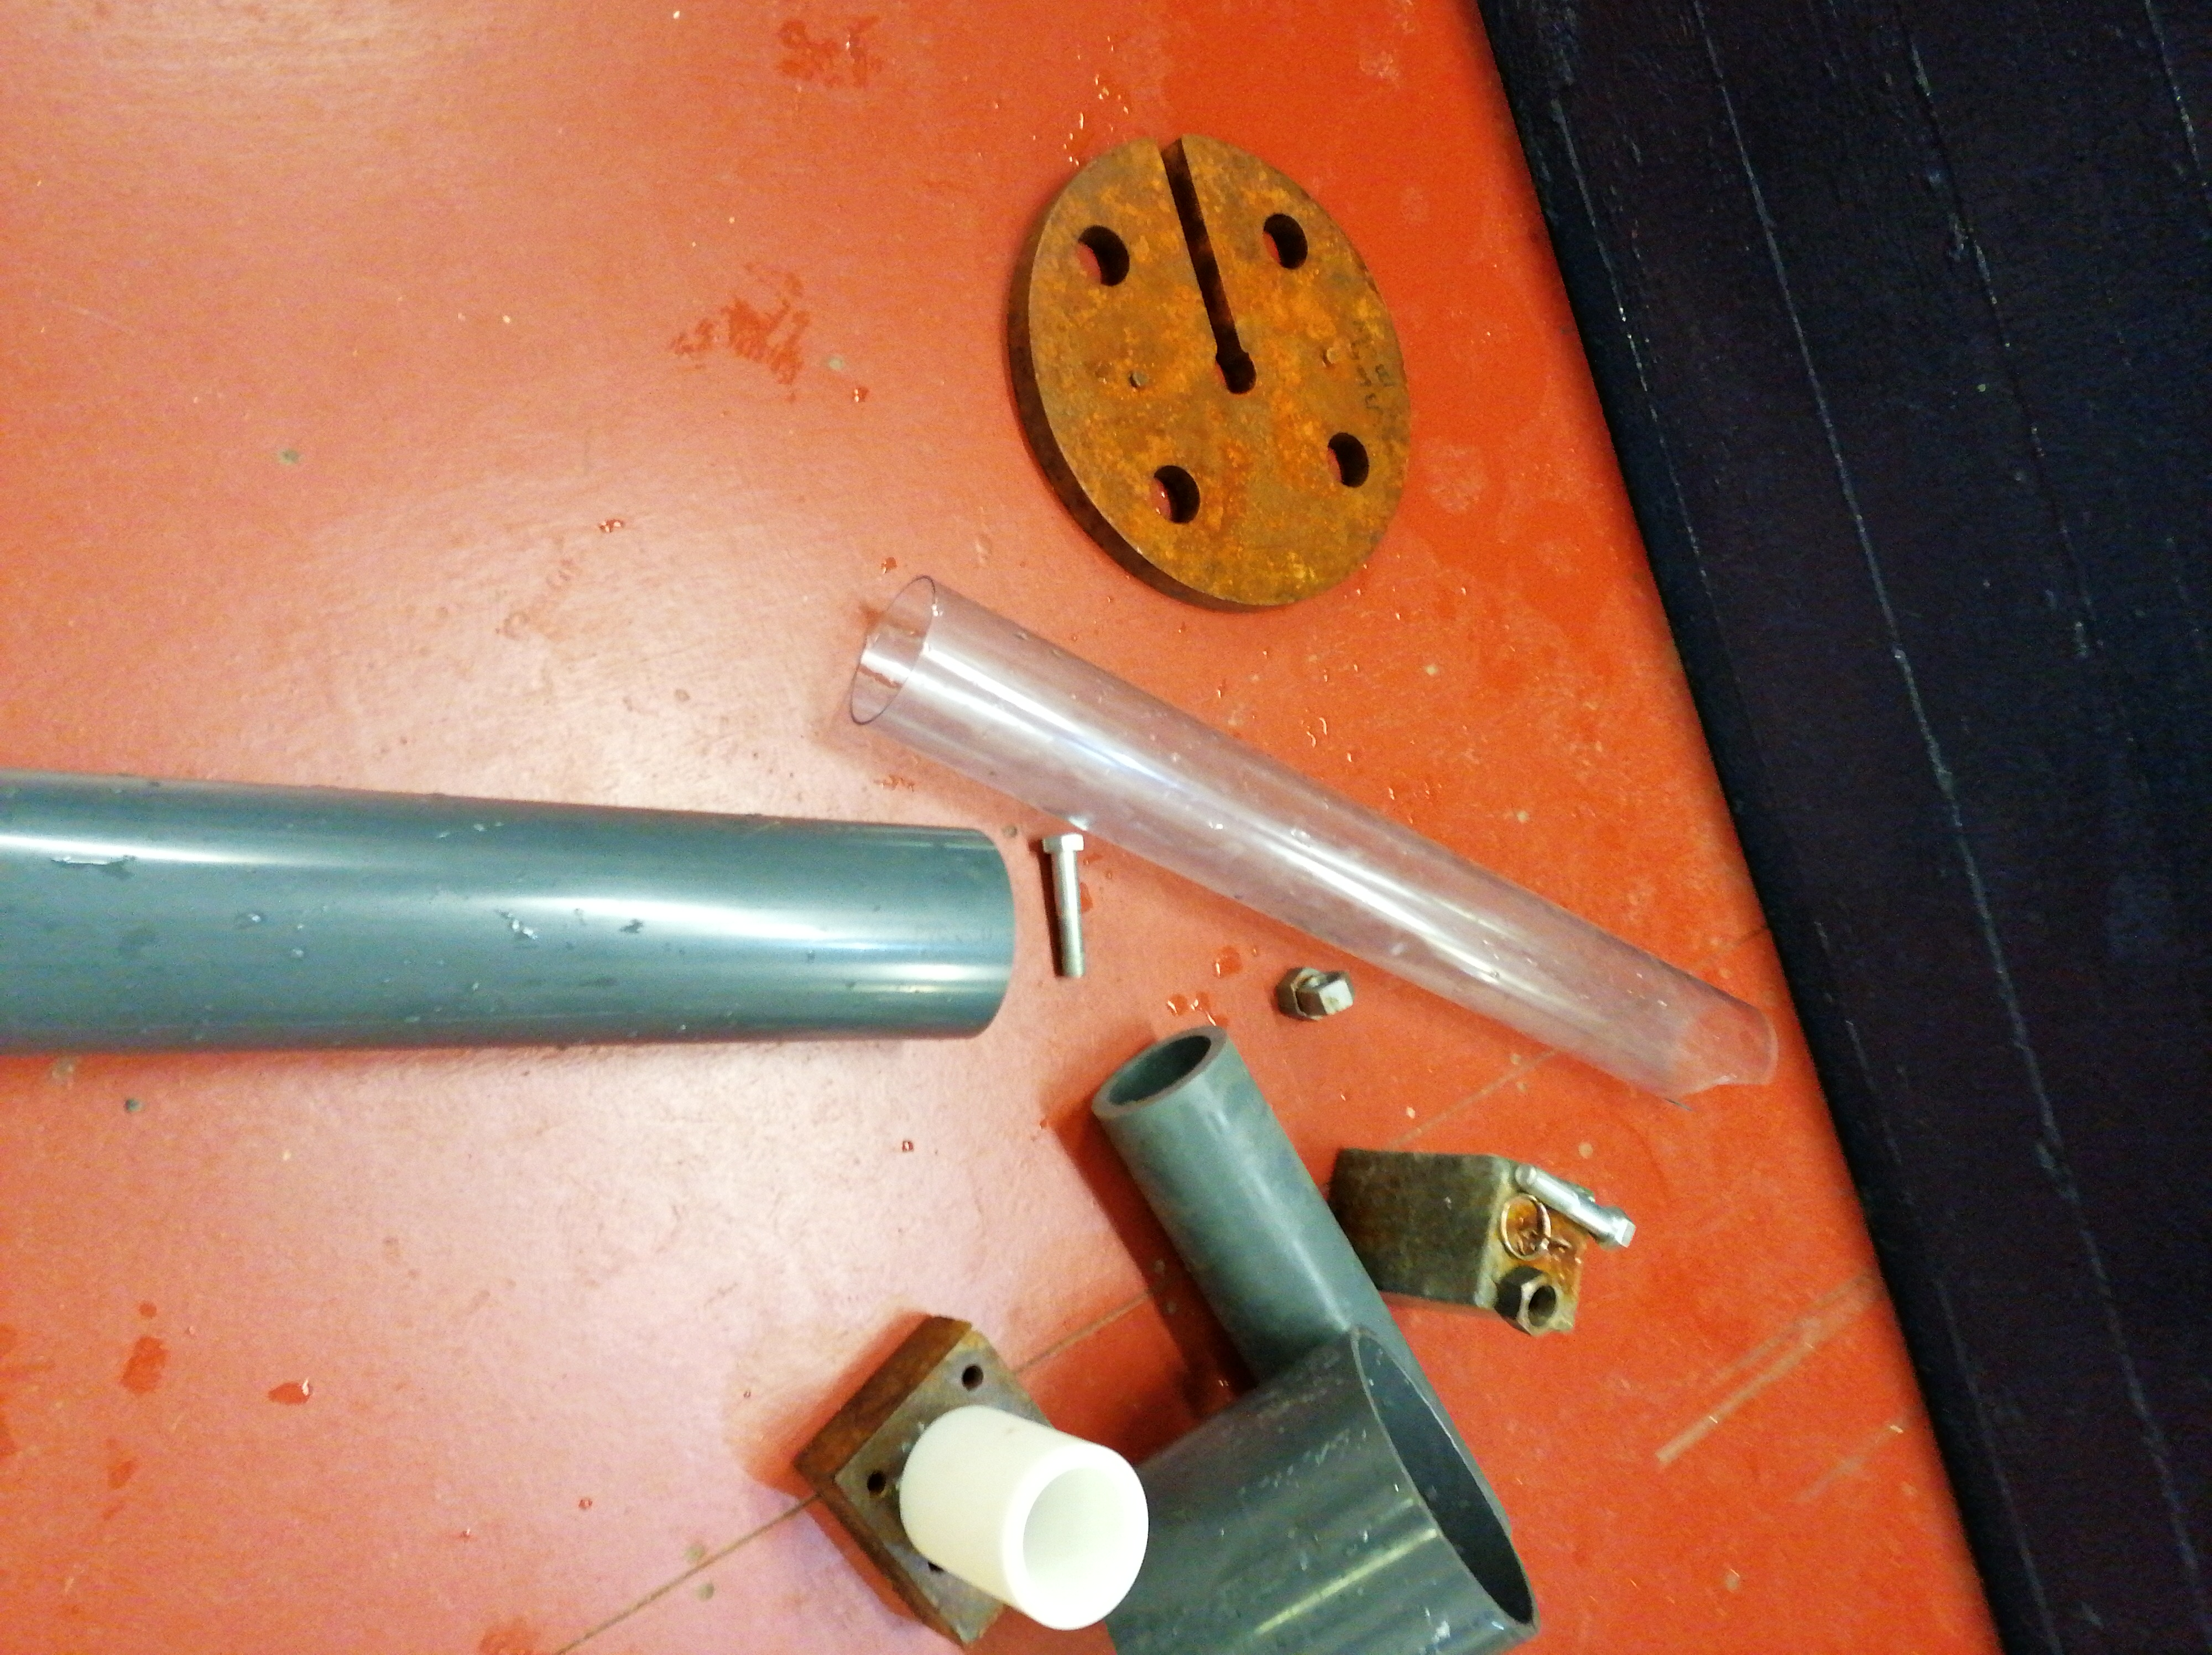bolt: (1513, 1163, 1633, 1252), (1043, 834, 1088, 979)
flange: (1001, 129, 1409, 610)
led_block: (792, 1316, 1058, 1645), (1336, 1147, 1593, 1332)
nut: (1498, 1266, 1566, 1339), (1298, 970, 1355, 1015), (1277, 967, 1324, 1020)
pipe: (846, 574, 1781, 1109), (0, 765, 1017, 1057), (1089, 1024, 1513, 1528), (1107, 1328, 1540, 1655), (898, 1403, 1152, 1632)
